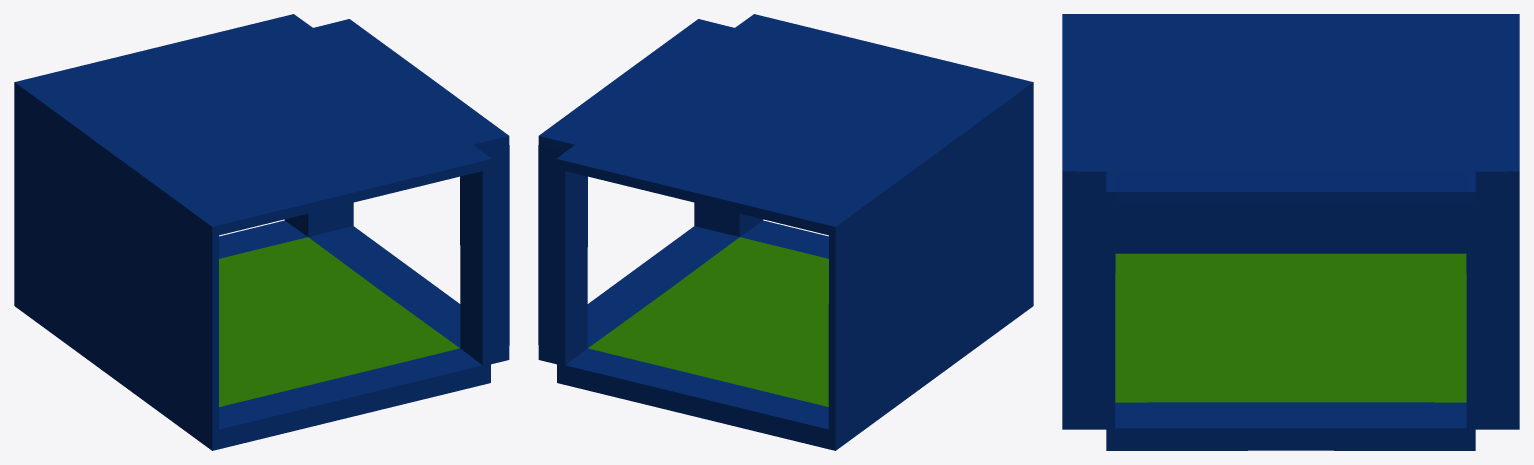
Rendered from vb_hallway_corner.fbx.
3 renders of one model, left to right at view 1: azimuth 30°, elevation 25°; view 2: azimuth 150°, elevation 25°; view 3: azimuth 270°, elevation 25°, orthographic. The views are drawn at different scales.
Visible parts, largest first — view 1: hallway_corner; view 2: hallway_corner; view 3: hallway_corner.
Boxes of the visible parts, left/top/right/bottom form: hallway_corner: left=14, top=14, right=509, bottom=450; hallway_corner: left=538, top=14, right=1033, bottom=450; hallway_corner: left=1062, top=14, right=1519, bottom=450.
Bounding box in the file's own units: 9.05 × 6.13 × 9.81.
